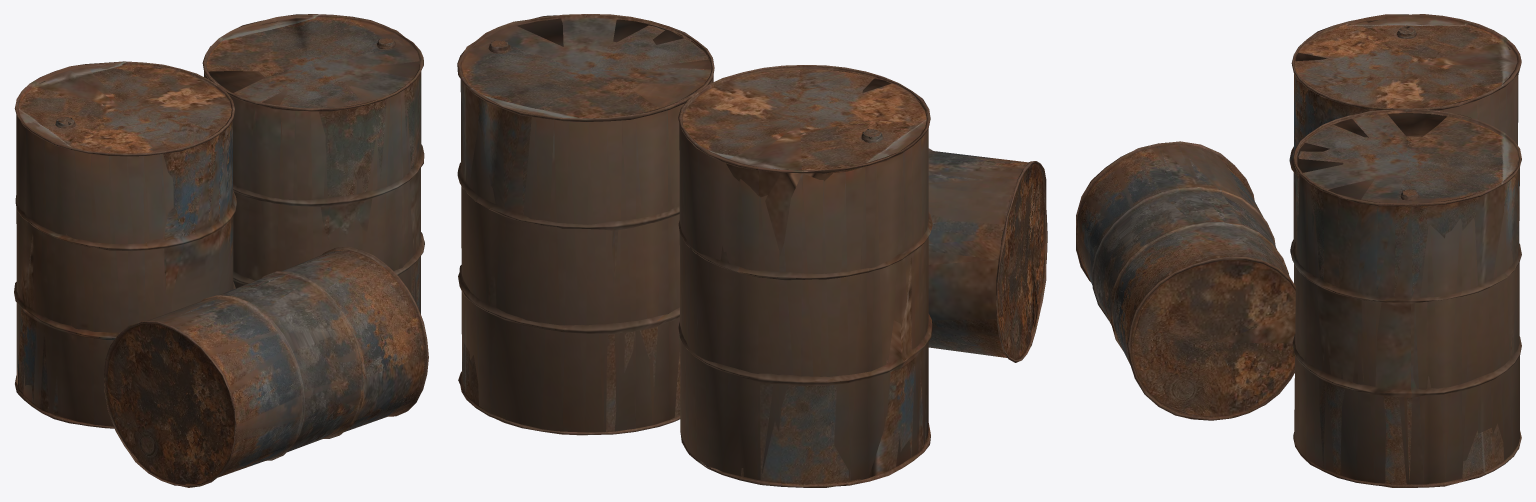
Rendered from oil_drums_rusty.glb.
3 renders of one model, left to right at view 1: azimuth 30°, elevation 25°; view 2: azimuth 150°, elevation 25°; view 3: azimuth 270°, elevation 25°, orthographic. The views are drawn at different scales.
Visible parts, largest first — view 1: Mesh_0; view 2: Mesh_0; view 3: Mesh_0.
Boxes of the visible parts, bbox=[...] form: Mesh_0: bbox=[14, 14, 428, 487]; Mesh_0: bbox=[457, 14, 1047, 487]; Mesh_0: bbox=[1076, 14, 1521, 487].
Bounding box in the file's own units: 1.8 × 1.28 × 1.79.
Materials: 1 (1 with a texture image).
